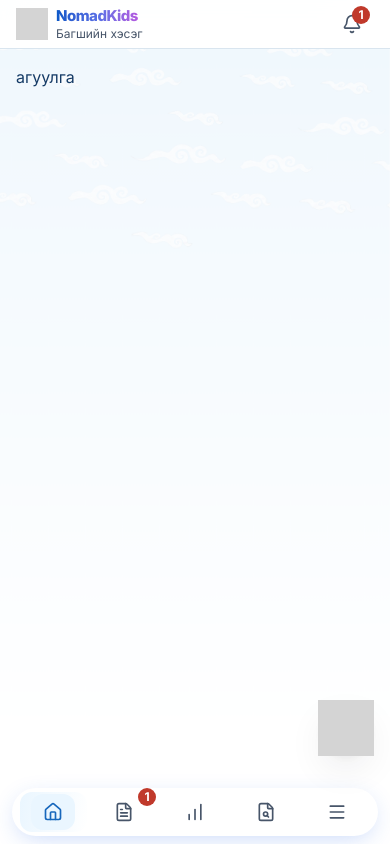
мэдэгдлийн хонх › names a titled notice by its title
Click the button "1": [352, 24] box left=330, top=2, right=374, bottom=46
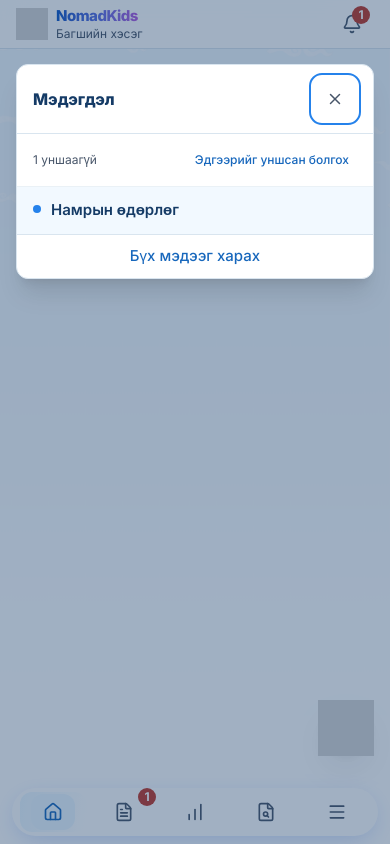
Result: the text "Намрын өдөрлөг" is shown at left=51, top=200, right=179, bottom=219
